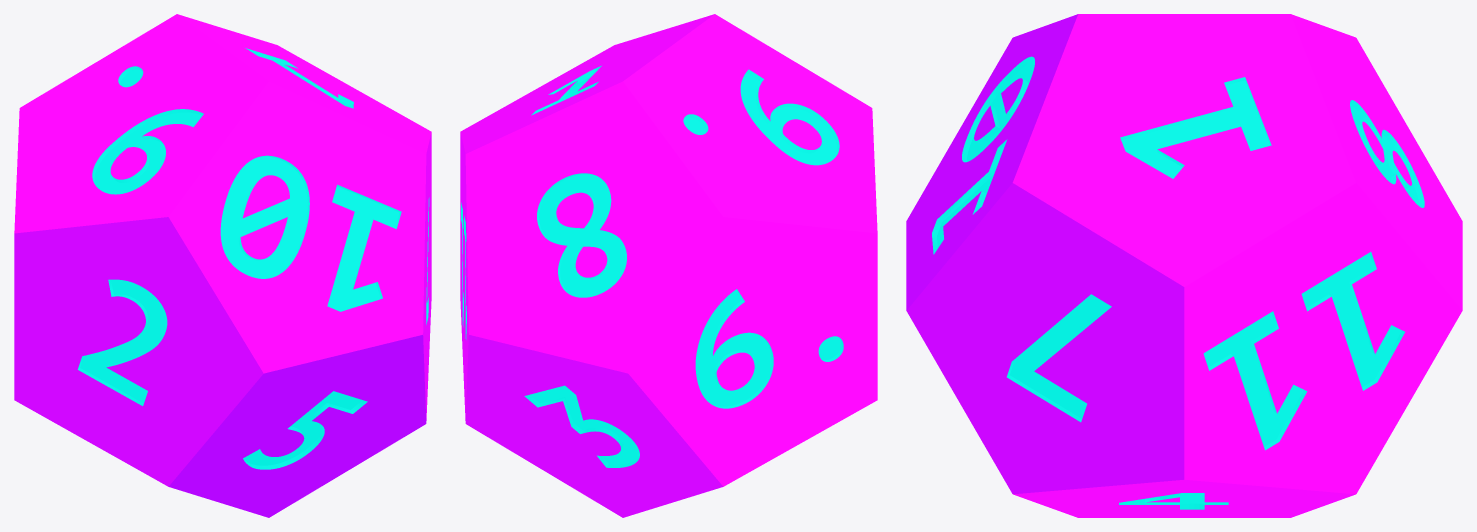
3 views of the same model, side by side, from view 1: azimuth 30°, elevation 25°; view 2: azimuth 150°, elevation 25°; view 3: azimuth 270°, elevation 25° (orthographic). The views are drawn at different scales.
Parts seen in each view (by area): view 1: d12.001; view 2: d12.001; view 3: d12.001.
Part boxes in pixels (bbox=[...]): d12.001: bbox=[14, 14, 431, 517]; d12.001: bbox=[460, 14, 877, 517]; d12.001: bbox=[906, 14, 1462, 517].
Size of the model in its own units: 1.87 by 1.87 by 1.87.
